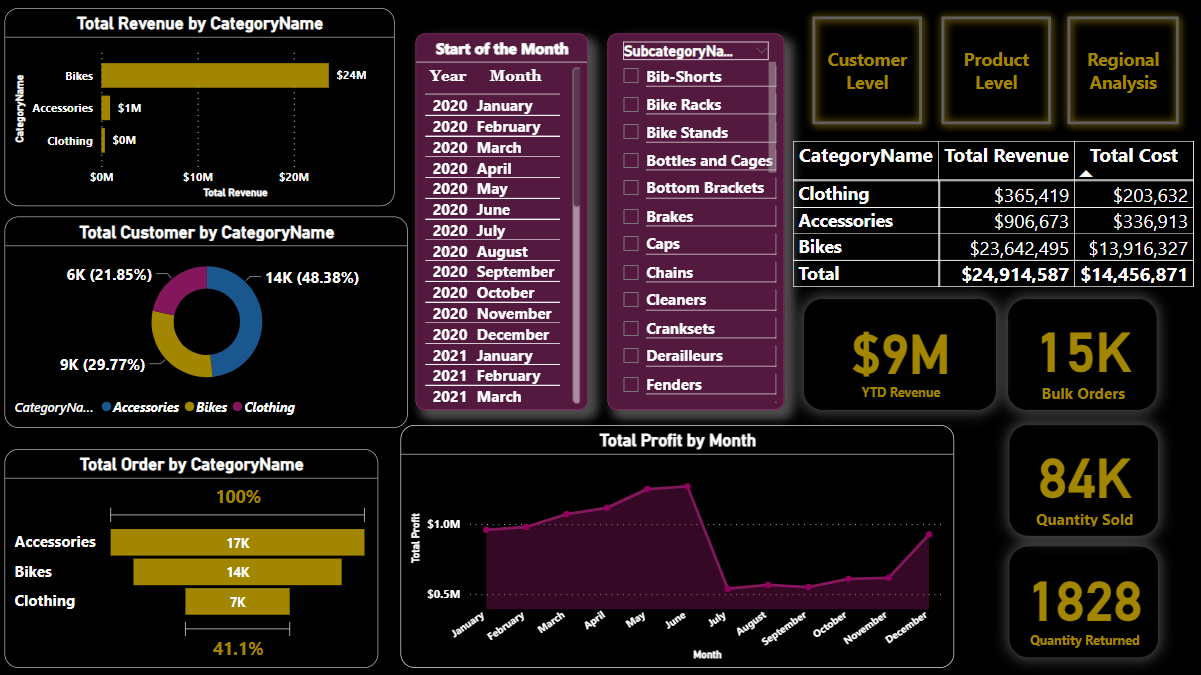

What the dashboard file says about the page in this screenshot:
{"tool":"powerbi","page":{"name":"Overall","canvas":[1280,720],"ordinal":3},"visuals":[{"type":"clusteredBarChart","fields":{"Category":["Product Categories Lookup.CategoryName"],"Y":["Measure Table.Total Revenue"]},"box":[7.9,9.5,413.2,209.8],"z":0},{"type":"pivotTable","fields":{"Rows":["Product Categories Lookup.CategoryName"],"Values":["Measure Table.Total Revenue","Measure Table.Total Cost"]},"box":[834.4,141.5,445,176.4],"z":1000},{"type":"donutChart","fields":{"Category":["Product Categories Lookup.CategoryName"],"Y":["Measure Table.Total Customer"]},"box":[7.9,230.5,427.5,224.1],"z":2000},{"type":"slicer","fields":{"Values":["Product Subcategories Lookup.SubcategoryName"]},"box":[646.9,36.6,187.5,398.9],"z":3000},{"type":"card","fields":{"Values":["Measure Table.Quantity Returned"]},"box":[1072.8,580.1,157.4,117.6],"z":4000},{"type":"card","fields":{"Values":["Measure Table.Quantity Sold"]},"box":[1072.8,451.4,157.4,117.6],"z":5000},{"type":"funnel","fields":{"Category":["Product Categories Lookup.CategoryName"],"Y":["Measure Table.Total Order"]},"box":[7.9,476.8,395.8,232.1],"z":6000},{"type":"tableEx","title":"Start of the Month","fields":{"Values":["Calendar Lookup.Start of Month.Variation.Date Hierarchy.Year","Calendar Lookup.Start of Month.Variation.Date Hierarchy.Month"]},"box":[443.4,36.6,182.8,398.9],"z":7000},{"type":"card","fields":{"Values":["Measure Table.Bulk Orders"]},"box":[1071.3,317.9,157.4,117.6],"z":8000},{"type":"stackedAreaChart","fields":{"Category":["Calendar Lookup.Start of Month.Variation.Date Hierarchy.Month"],"Y":["Measure Table.Total Profit"]},"box":[427.5,451.4,586.5,257.5],"z":9000},{"type":"actionButton","box":[855.4,9.2,134,132.2],"z":10000},{"type":"actionButton","box":[1125.2,9.2,135.8,132.2],"z":11000},{"type":"actionButton","box":[991.2,9.2,134,132.2],"z":12000},{"type":"card","fields":{"Values":["Measure Table.YTD Revenue"]},"box":[855.1,317.9,203.4,117.6],"z":13000}]}

Visuals, with their boxes in screenshot pixels (x1, y1, x2, y2), scaled from the page's 1280x720 canvas onto the 1201x675 screenshot:
clusteredBarChart - Product Categories Lookup.CategoryName x Measure Table.Total Revenue: (left=7, top=9, right=395, bottom=206)
pivotTable - Product Categories Lookup.CategoryName x Measure Table.Total Revenue: (left=783, top=133, right=1200, bottom=298)
donutChart - Product Categories Lookup.CategoryName x Measure Table.Total Customer: (left=7, top=216, right=409, bottom=426)
slicer - Product Subcategories Lookup.SubcategoryName: (left=607, top=34, right=783, bottom=408)
card - Measure Table.Quantity Returned: (left=1007, top=544, right=1154, bottom=654)
card - Measure Table.Quantity Sold: (left=1007, top=423, right=1154, bottom=533)
funnel - Product Categories Lookup.CategoryName x Measure Table.Total Order: (left=7, top=447, right=379, bottom=665)
"Start of the Month" tableEx: (left=416, top=34, right=588, bottom=408)
card - Measure Table.Bulk Orders: (left=1005, top=298, right=1153, bottom=408)
stackedAreaChart - Calendar Lookup.Start of Month.Variation.Date Hierarchy.Month x Measure Table.Total Profit: (left=401, top=423, right=951, bottom=665)
actionButton: (left=803, top=9, right=928, bottom=133)
actionButton: (left=1056, top=9, right=1183, bottom=133)
actionButton: (left=930, top=9, right=1056, bottom=133)
card - Measure Table.YTD Revenue: (left=802, top=298, right=993, bottom=408)
